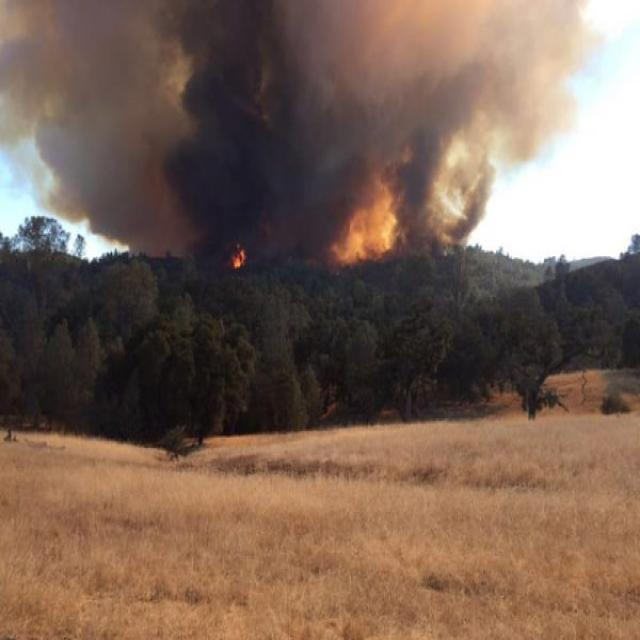Smoke: (0, 0, 627, 259)
